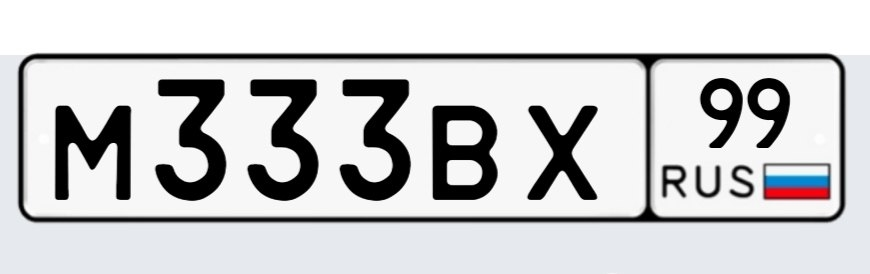number_plate: (31, 58, 839, 217)
